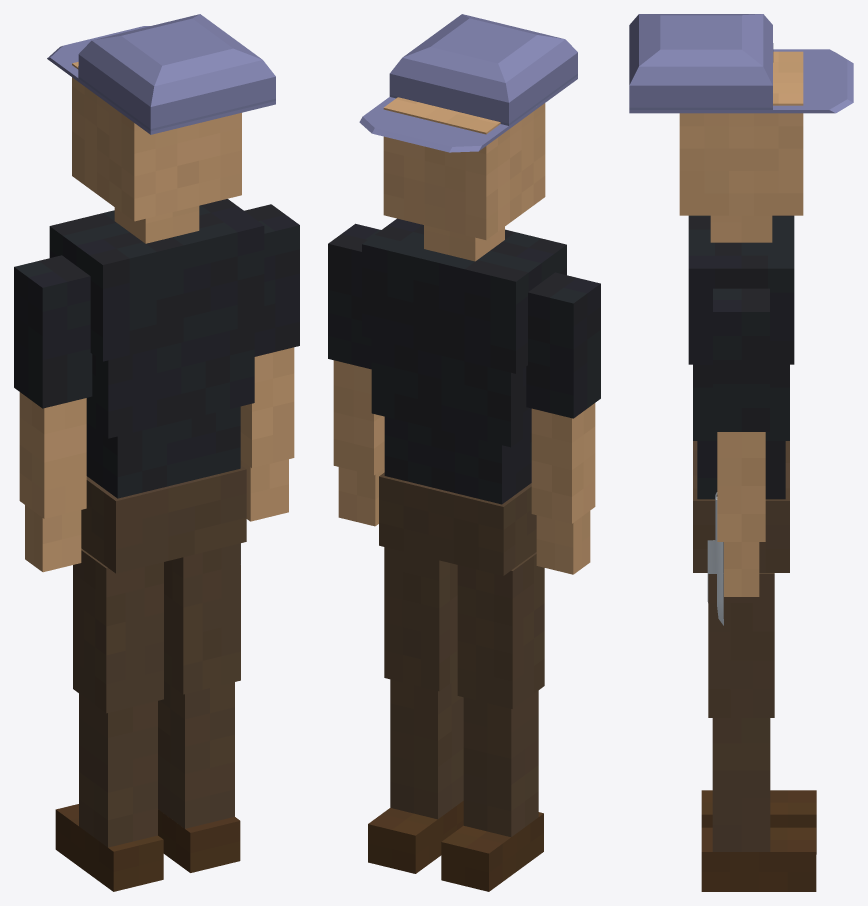
Rendered from npc_armed.glb.
3 renders of one model, left to right at view 1: azimuth 30°, elevation 25°; view 2: azimuth 150°, elevation 25°; view 3: azimuth 270°, elevation 25°, orthographic. The views are drawn at different scales.
Parts seen in each view (by area): view 1: chestU, Acc_shipin_cap, head, chestL, thighR, pelvis, uarmR, shinR, thighL, shinL, waist, farmR (+7 smaller); view 2: chestU, Acc_shipin_cap, head, chestL, thighR, pelvis, shinR, uarmR, thighL, shinL, waist, farmR (+7 smaller); view 3: Acc_shipin_cap, head, chestU, thighL, uarmL, shinL, footL, farmL, pelvis, chestL, waist, footR (+3 smaller).
Boxes of the visible parts, x1=… form: chestU: x1=49, y1=199, x2=264, y2=361; Acc_shipin_cap: x1=47, y1=14, x2=275, y2=134; head: x1=72, y1=62, x2=241, y2=221; chestL: x1=86, y1=324, x2=254, y2=438; thighR: x1=73, y1=548, x2=163, y2=713; pelvis: x1=81, y1=465, x2=246, y2=573; uarmR: x1=14, y1=255, x2=92, y2=408; shinR: x1=79, y1=693, x2=157, y2=847; thighL: x1=164, y1=543, x2=240, y2=694; shinL: x1=158, y1=681, x2=234, y2=828; waist: x1=86, y1=406, x2=240, y2=498; farmR: x1=19, y1=392, x2=86, y2=518; chestU: x1=362, y1=218, x2=566, y2=373; Acc_shipin_cap: x1=359, y1=14, x2=577, y2=152; head: x1=383, y1=97, x2=545, y2=239; chestL: x1=371, y1=339, x2=531, y2=447; thighR: x1=457, y1=552, x2=544, y2=709; pelvis: x1=379, y1=472, x2=536, y2=575; shinR: x1=463, y1=690, x2=538, y2=836; uarmR: x1=526, y1=272, x2=600, y2=418; thighL: x1=384, y1=547, x2=457, y2=691; shinL: x1=390, y1=678, x2=463, y2=819; waist: x1=384, y1=416, x2=531, y2=504; farmR: x1=531, y1=403, x2=595, y2=523; Acc_shipin_cap: x1=629, y1=14, x2=853, y2=113; head: x1=679, y1=51, x2=803, y2=215; chestU: x1=688, y1=215, x2=794, y2=364; thighL: x1=708, y1=573, x2=774, y2=717; uarmL: x1=713, y1=288, x2=769, y2=431; shinL: x1=712, y1=718, x2=770, y2=851; footL: x1=701, y1=827, x2=816, y2=891; farmL: x1=717, y1=432, x2=765, y2=541; pelvis: x1=693, y1=441, x2=789, y2=572; chestL: x1=693, y1=364, x2=789, y2=440; waist: x1=697, y1=441, x2=785, y2=499; footR: x1=701, y1=790, x2=816, y2=854.
Bounding box in the file's own units: 0.669 × 2.07 × 0.5087.
